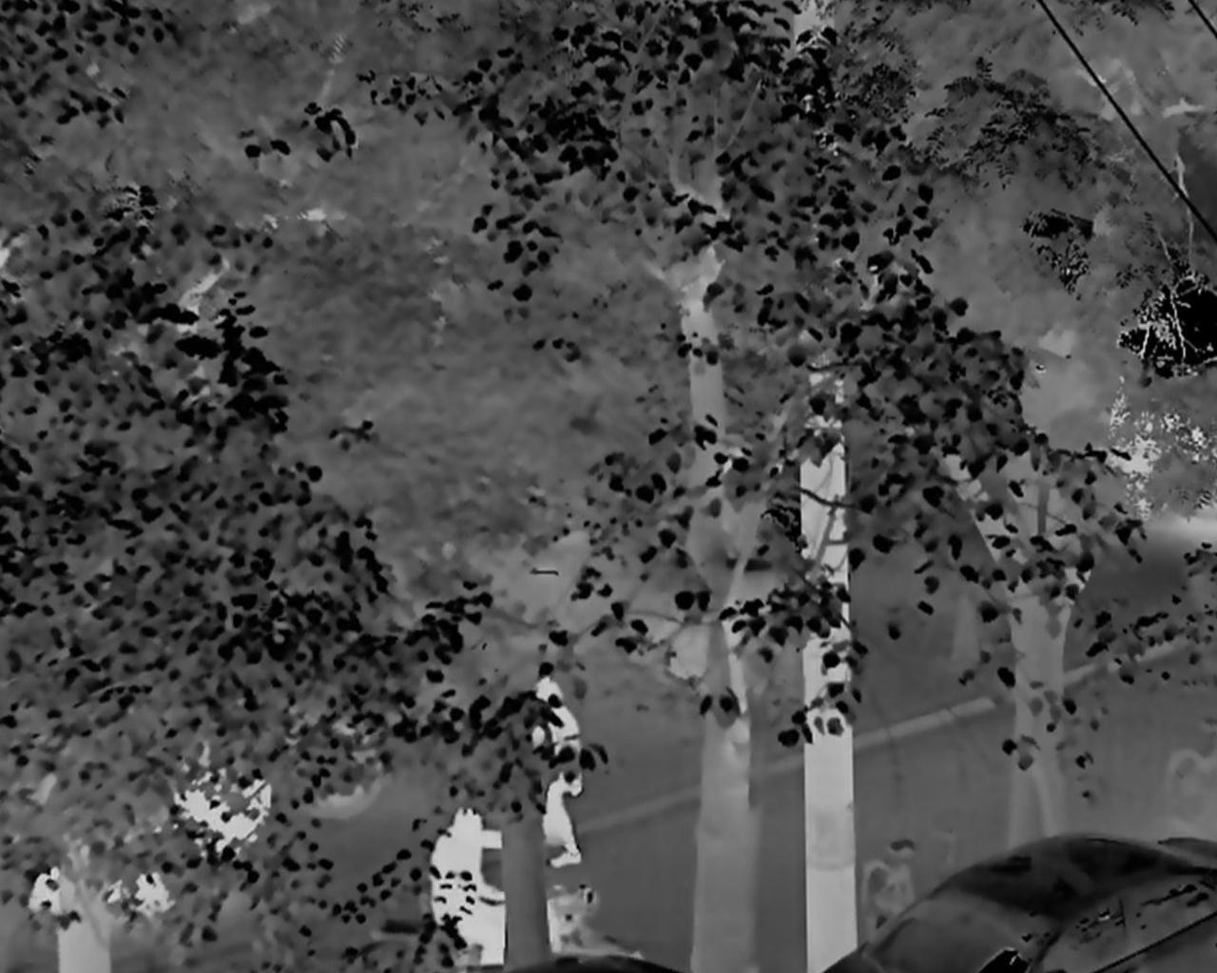person: (429, 811, 518, 973), (529, 677, 592, 868)
